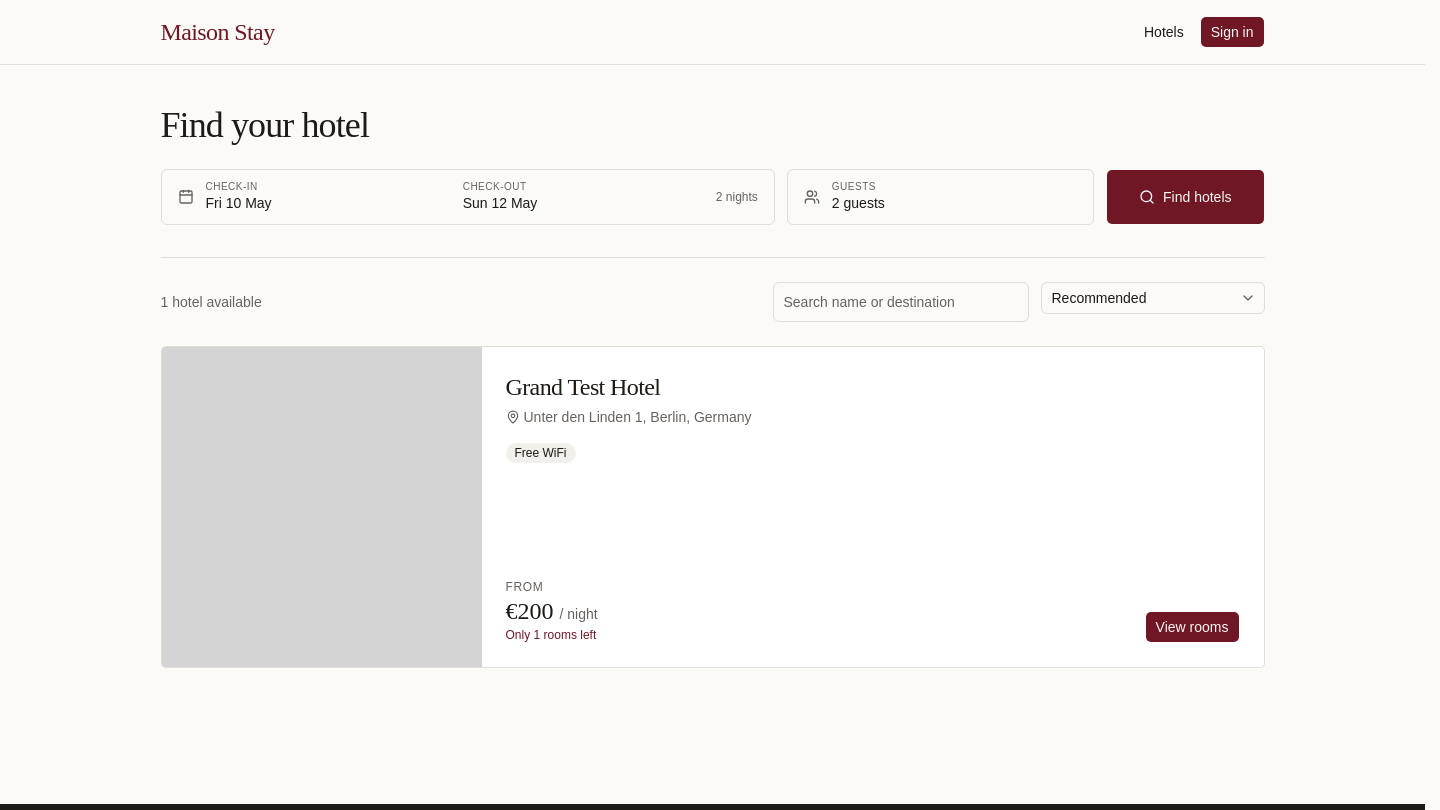
Scenario: booking journey › lets a visitor browse, sign in, reserve and start a payment
This screenshot has width=1440, height=810.
Expected: the heading "Grand Test Hotel" is shown, [506,374,660,400]
Expected: the text "€200 / night" is shown, [506,595,598,627]
Click the link "View rooms" at (1192, 627), box [1145,611,1240,643]
(page scrolled)
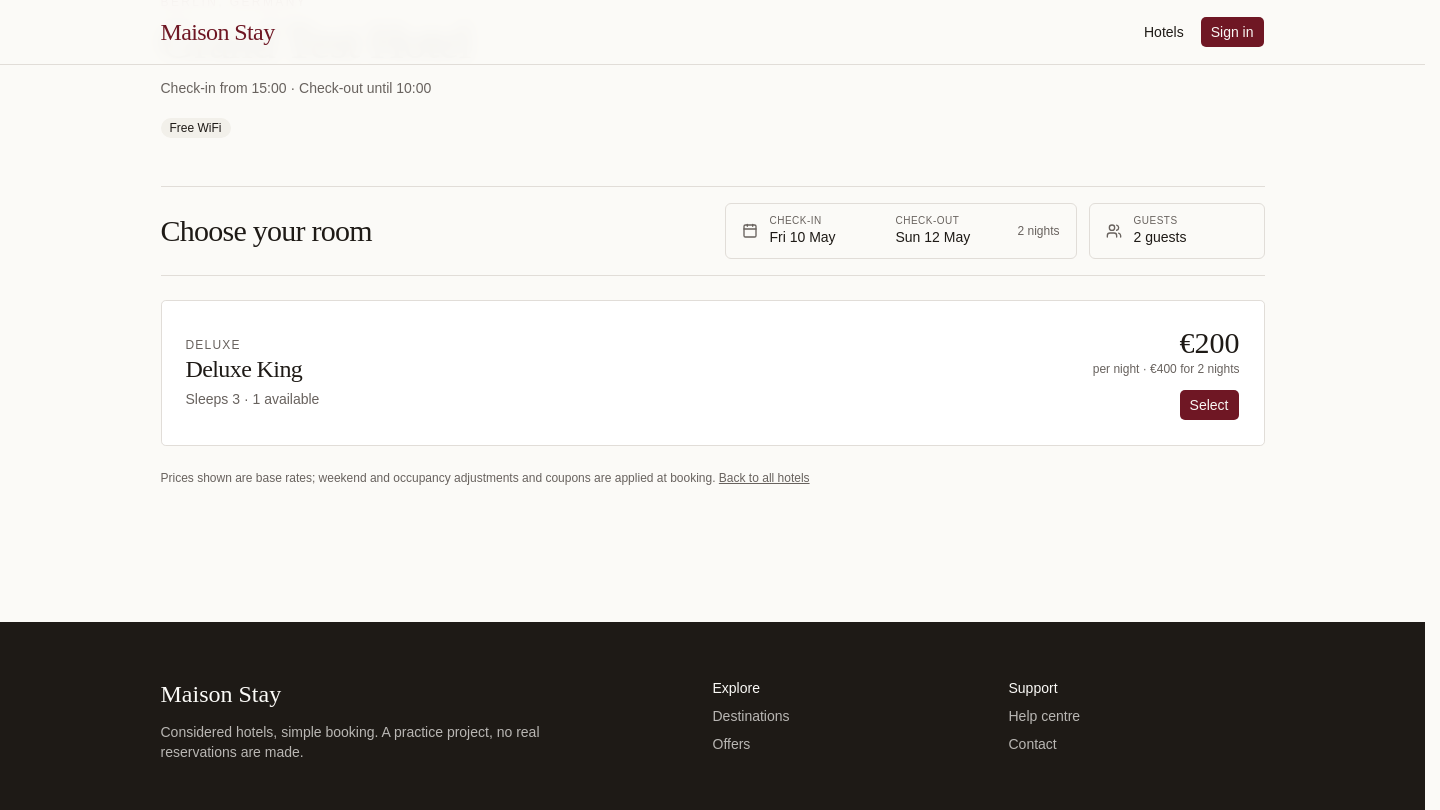
Click the button "Select" at (1209, 405), box [1179,389,1240,421]
(page scrolled)
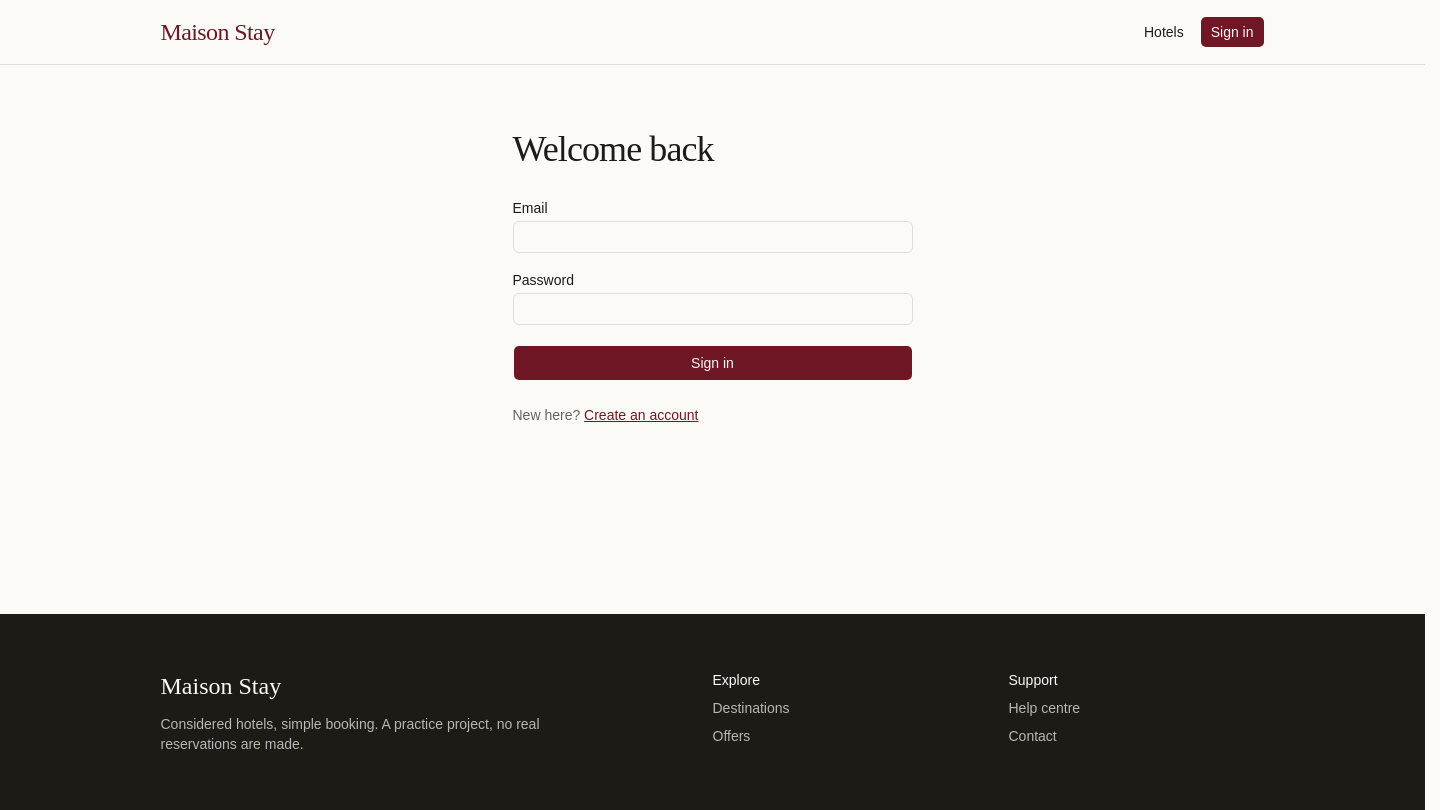
Expected: the heading "Welcome back" is shown, [512,129,714,169]
Type "ada@example.com" into the field labelled "Email" at (712, 237), box [512,221,912,253]
Type "password1" into the password field labelled "Password" at (712, 309), box [512,293,912,325]
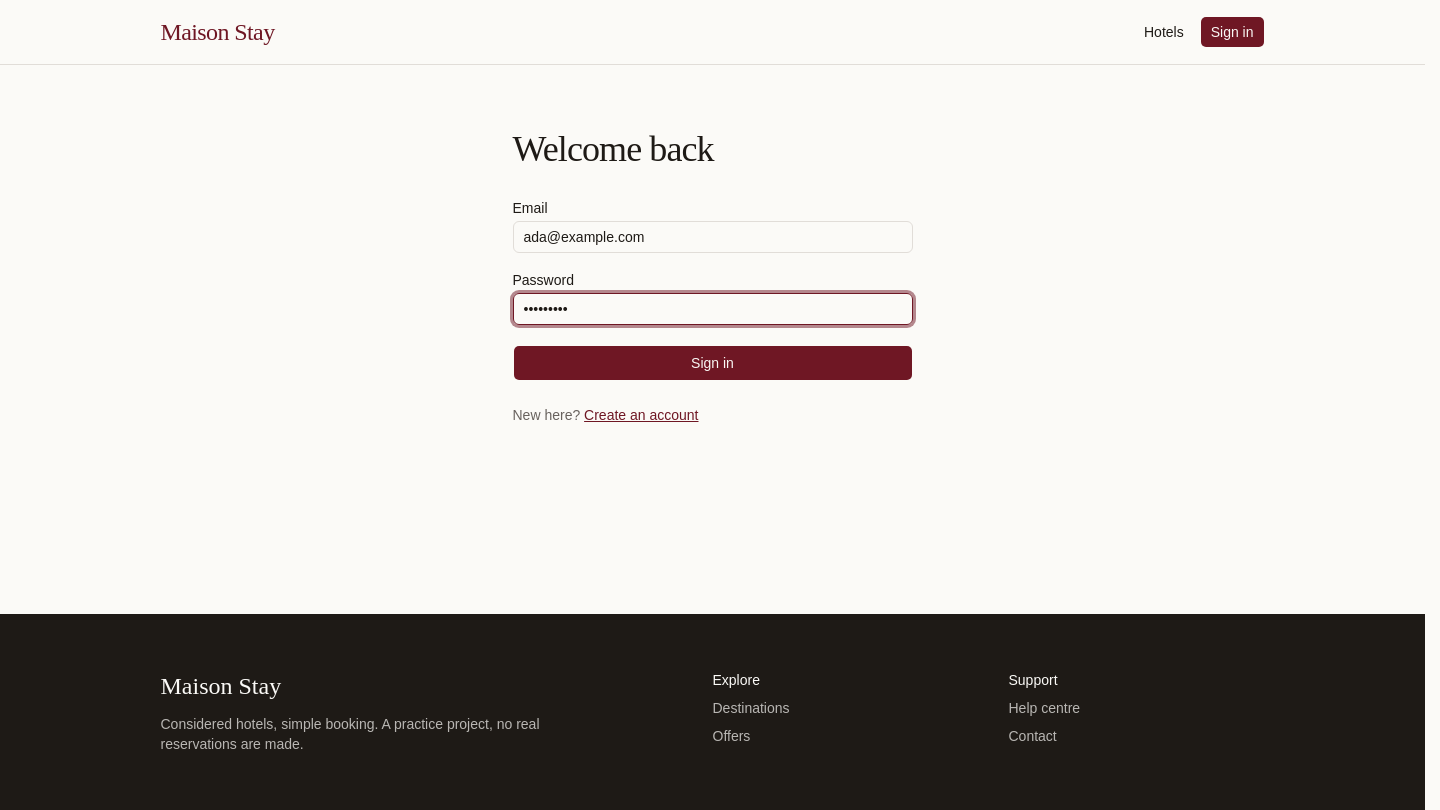
Click the button "Sign in" at (712, 363), box [512,345,912,381]
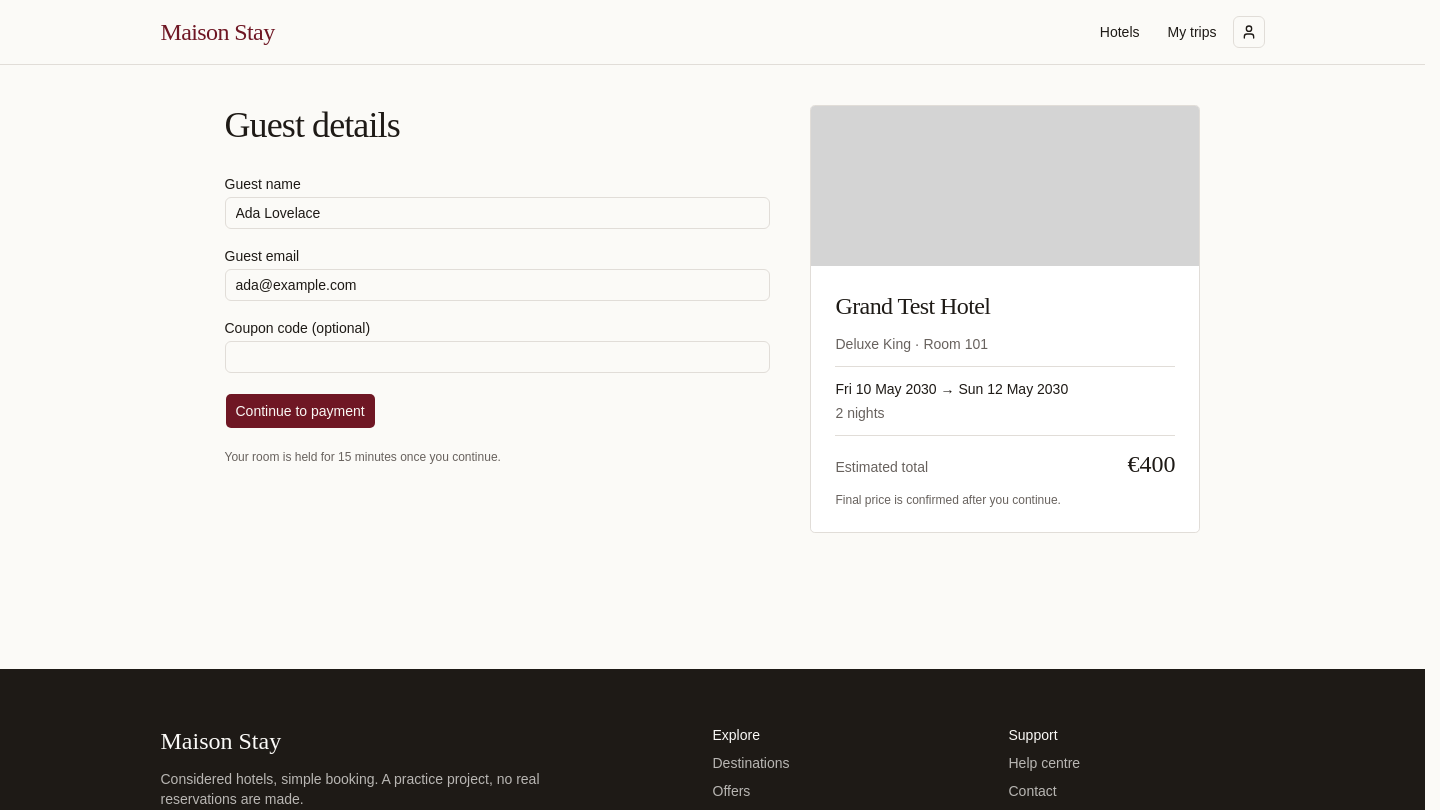
Expected: the heading "Guest details" is shown, [224,105,400,145]
Expected: the text "€400" is shown, [1128,448,1176,480]
Expected: the field labelled "Guest name" holds "Ada Lovelace", [224,197,770,229]
Click the button "Continue to payment" at (300, 411), box [224,393,376,429]
(page scrolled)
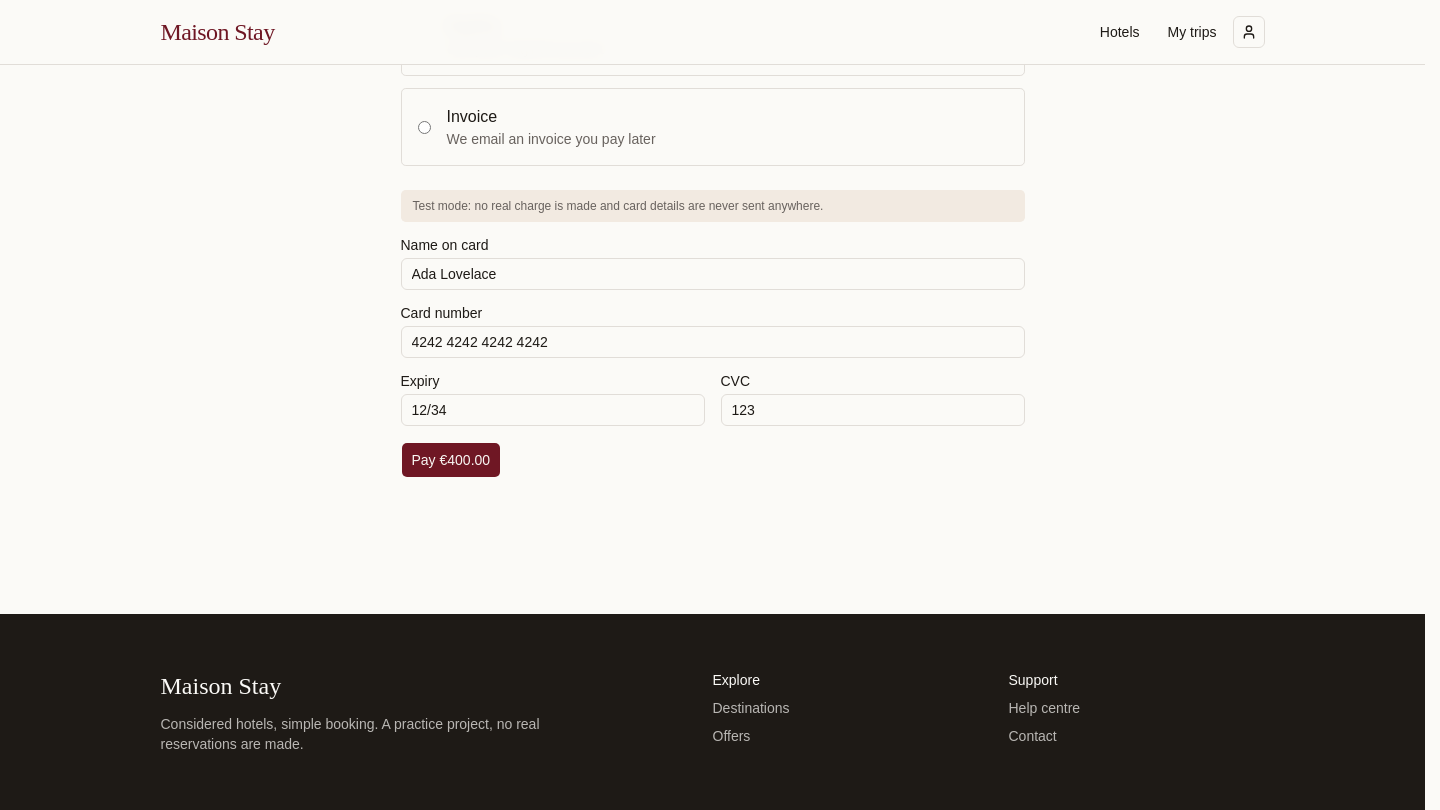
Expected: the field labelled "Card number" holds "4242 4242 4242 4242", [400,326,1024,358]
Click the button "Pay €400.00" at (451, 460), box [400,442,501,478]
(page scrolled)
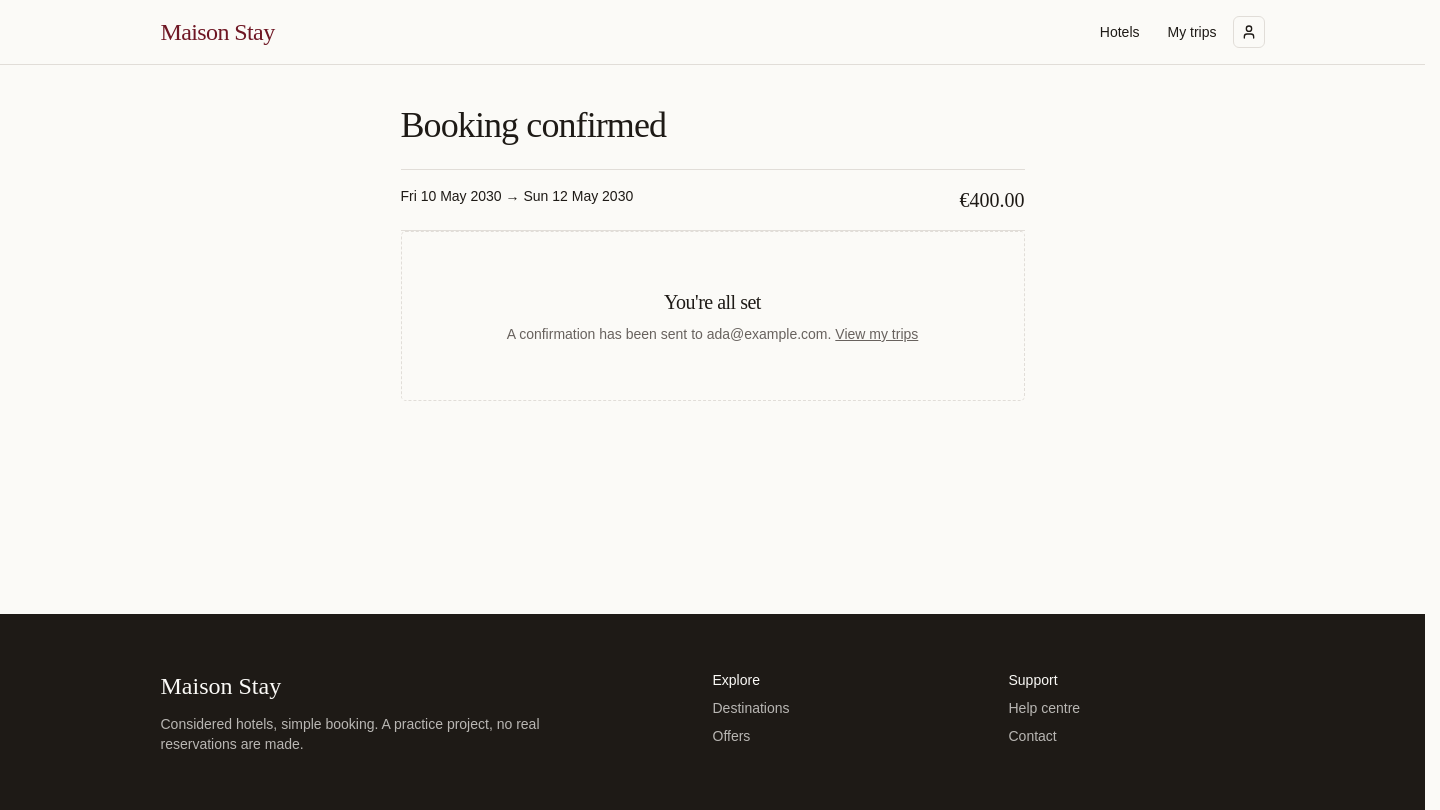
Expected: the heading "Booking confirmed" is shown, [400,105,666,145]
